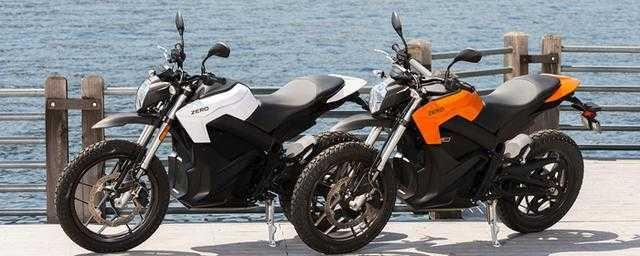motorbike: (290, 8, 602, 256), (53, 10, 369, 253)
